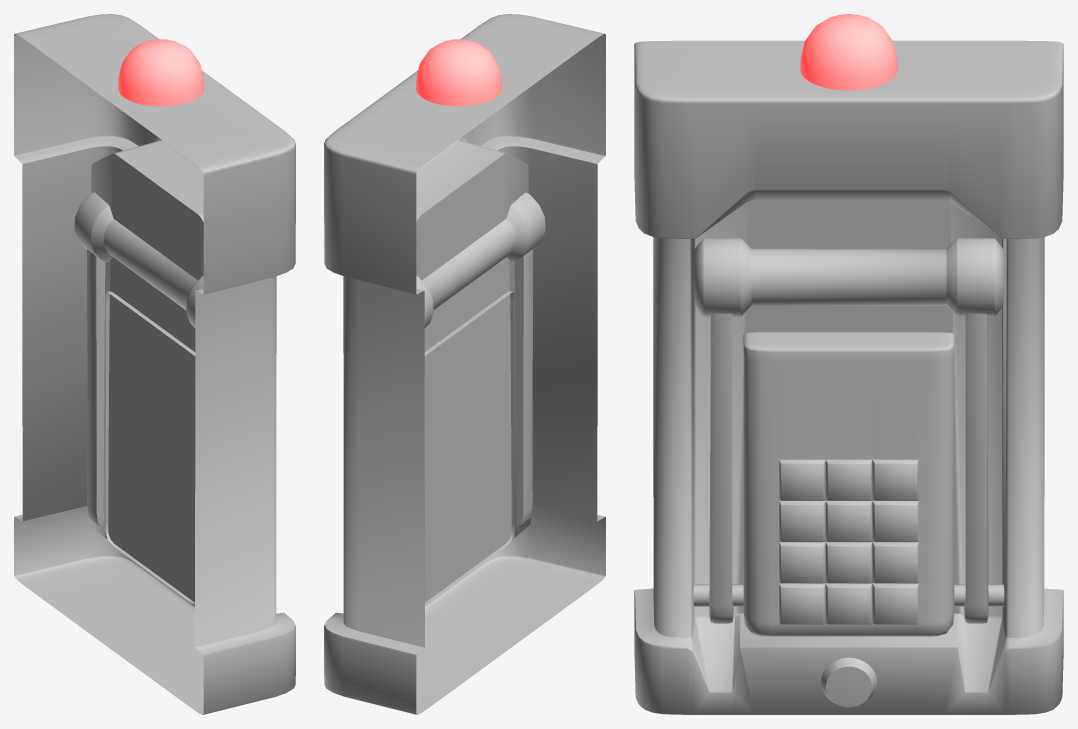
The model's file is alert.fbx.
3 views of the same model, side by side, from view 1: azimuth 30°, elevation 25°; view 2: azimuth 150°, elevation 25°; view 3: azimuth 270°, elevation 25° (orthographic). The views are drawn at different scales.
Visible parts, largest first — view 1: EmergencyPanel, EmergencyPanelLever, Light; view 2: EmergencyPanel, EmergencyPanelLever, Light; view 3: EmergencyPanel, EmergencyPanelLever, Light.
Part boxes in pixels (x1,y1,x2,y2): EmergencyPanel: (14,14,295,714); EmergencyPanelLever: (74,192,203,528); Light: (118,39,203,106); EmergencyPanel: (324,14,605,714); EmergencyPanelLever: (416,192,545,528); Light: (416,39,501,106); EmergencyPanel: (634,40,1063,714); EmergencyPanelLever: (693,238,1004,623); Light: (800,14,897,90).
Size of the model in its own units: 7.58 by 37.82 by 22.
